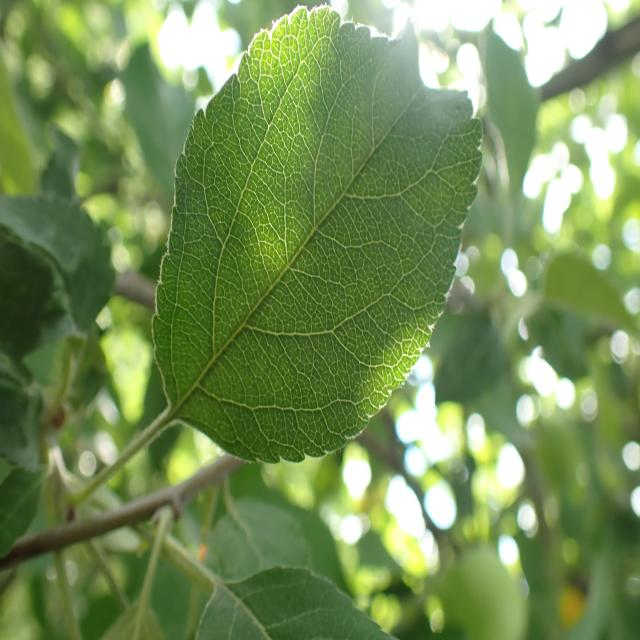healthy: (151, 3, 485, 464), (195, 563, 398, 640)
